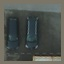car: (7, 15, 21, 49), (25, 15, 39, 49)
